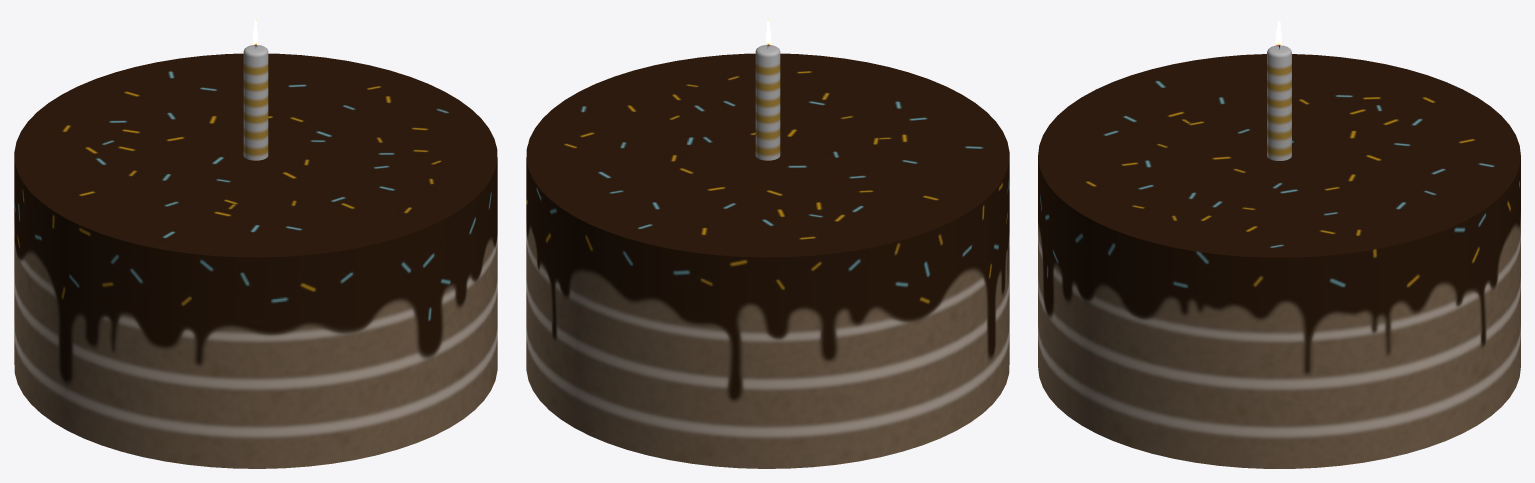
The picture shows the model from 3 angles, left to right: view 1: azimuth 30°, elevation 25°; view 2: azimuth 150°, elevation 25°; view 3: azimuth 270°, elevation 25°; orthographic projection.
Visible parts, largest first — view 1: cake_lp, Cylinder; view 2: cake_lp, Cylinder; view 3: cake_lp, Cylinder.
Boxes of the visible parts, bbox=[...] form: cake_lp: bbox=[14, 53, 497, 468]; Cylinder: bbox=[243, 45, 268, 160]; cake_lp: bbox=[526, 53, 1009, 468]; Cylinder: bbox=[755, 45, 780, 160]; cake_lp: bbox=[1038, 54, 1520, 468]; Cylinder: bbox=[1267, 45, 1291, 160].
Size of the model in its own units: 0.3453 by 0.2757 by 0.3458.
1 material, 1 textured.
